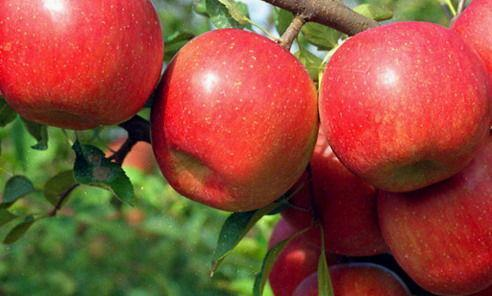apple: (147, 29, 320, 210), (315, 16, 491, 190), (1, 1, 163, 130), (375, 144, 490, 294), (281, 123, 391, 257), (298, 262, 410, 296)
